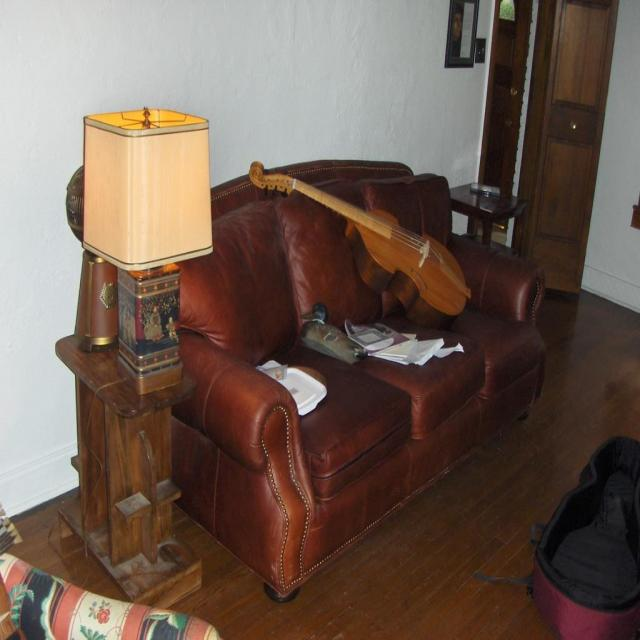table: (55, 329, 198, 612), (454, 185, 529, 244)
